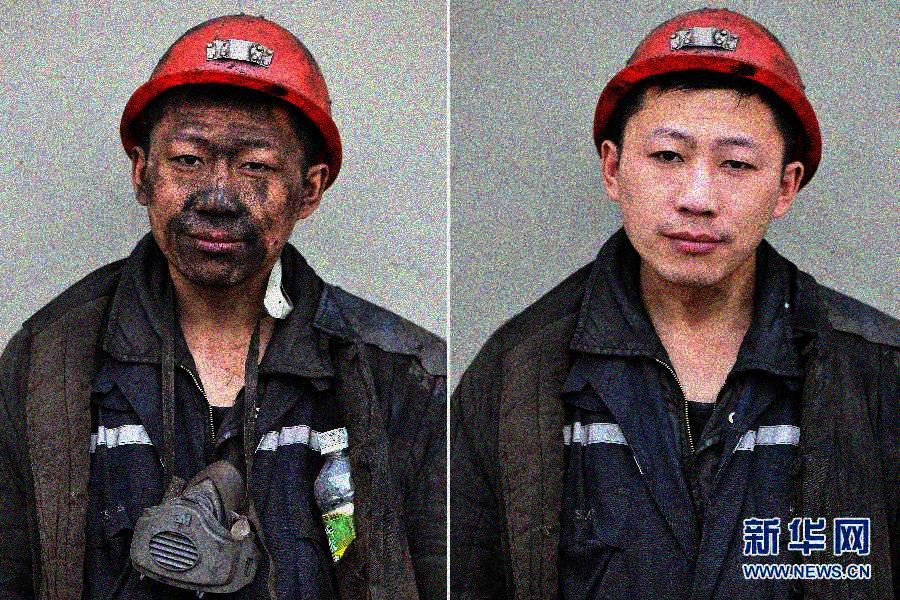helmet: (586, 7, 824, 293), (114, 10, 342, 292)
